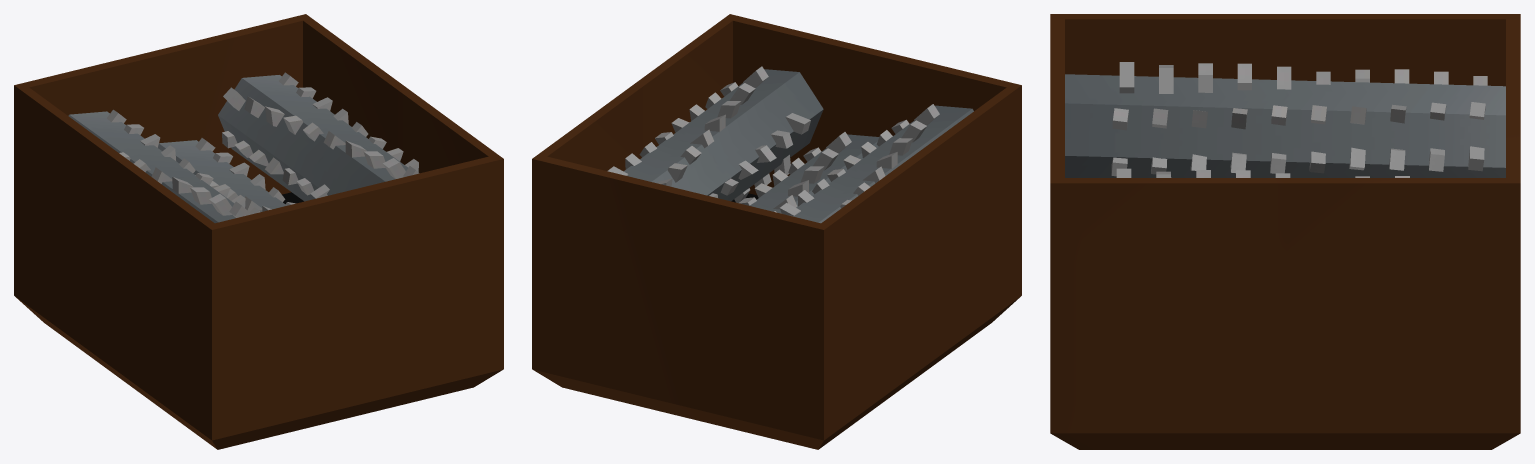
Rendered from slaughter.fbx.
3 views of the same model, side by side, from view 1: azimuth 30°, elevation 25°; view 2: azimuth 150°, elevation 25°; view 3: azimuth 270°, elevation 25° (orthographic). The views are drawn at different scales.
Parts seen in each view (by area): view 1: Cube, Cube.003, Cube.002, Cube.001; view 2: Cube, Cube.003, Cube.002, Cube.001; view 3: Cube, Cube.002, Cube.003.
Part boxes in pixels (box(x1,y1,x2,y2)): Cube: box(14, 14, 503, 449); Cube.003: box(218, 72, 419, 201); Cube.002: box(68, 109, 259, 223); Cube.001: box(158, 138, 295, 212); Cube: box(532, 14, 1021, 449); Cube.003: box(607, 66, 823, 202); Cube.002: box(780, 104, 973, 223); Cube.001: box(739, 132, 878, 213); Cube: box(1050, 14, 1520, 449); Cube.002: box(1065, 62, 1505, 177); Cube.003: box(1116, 168, 1409, 177).
Bounding box in the file's own units: 763 × 582 × 895.
Materials: 4 (4 with a texture image).
